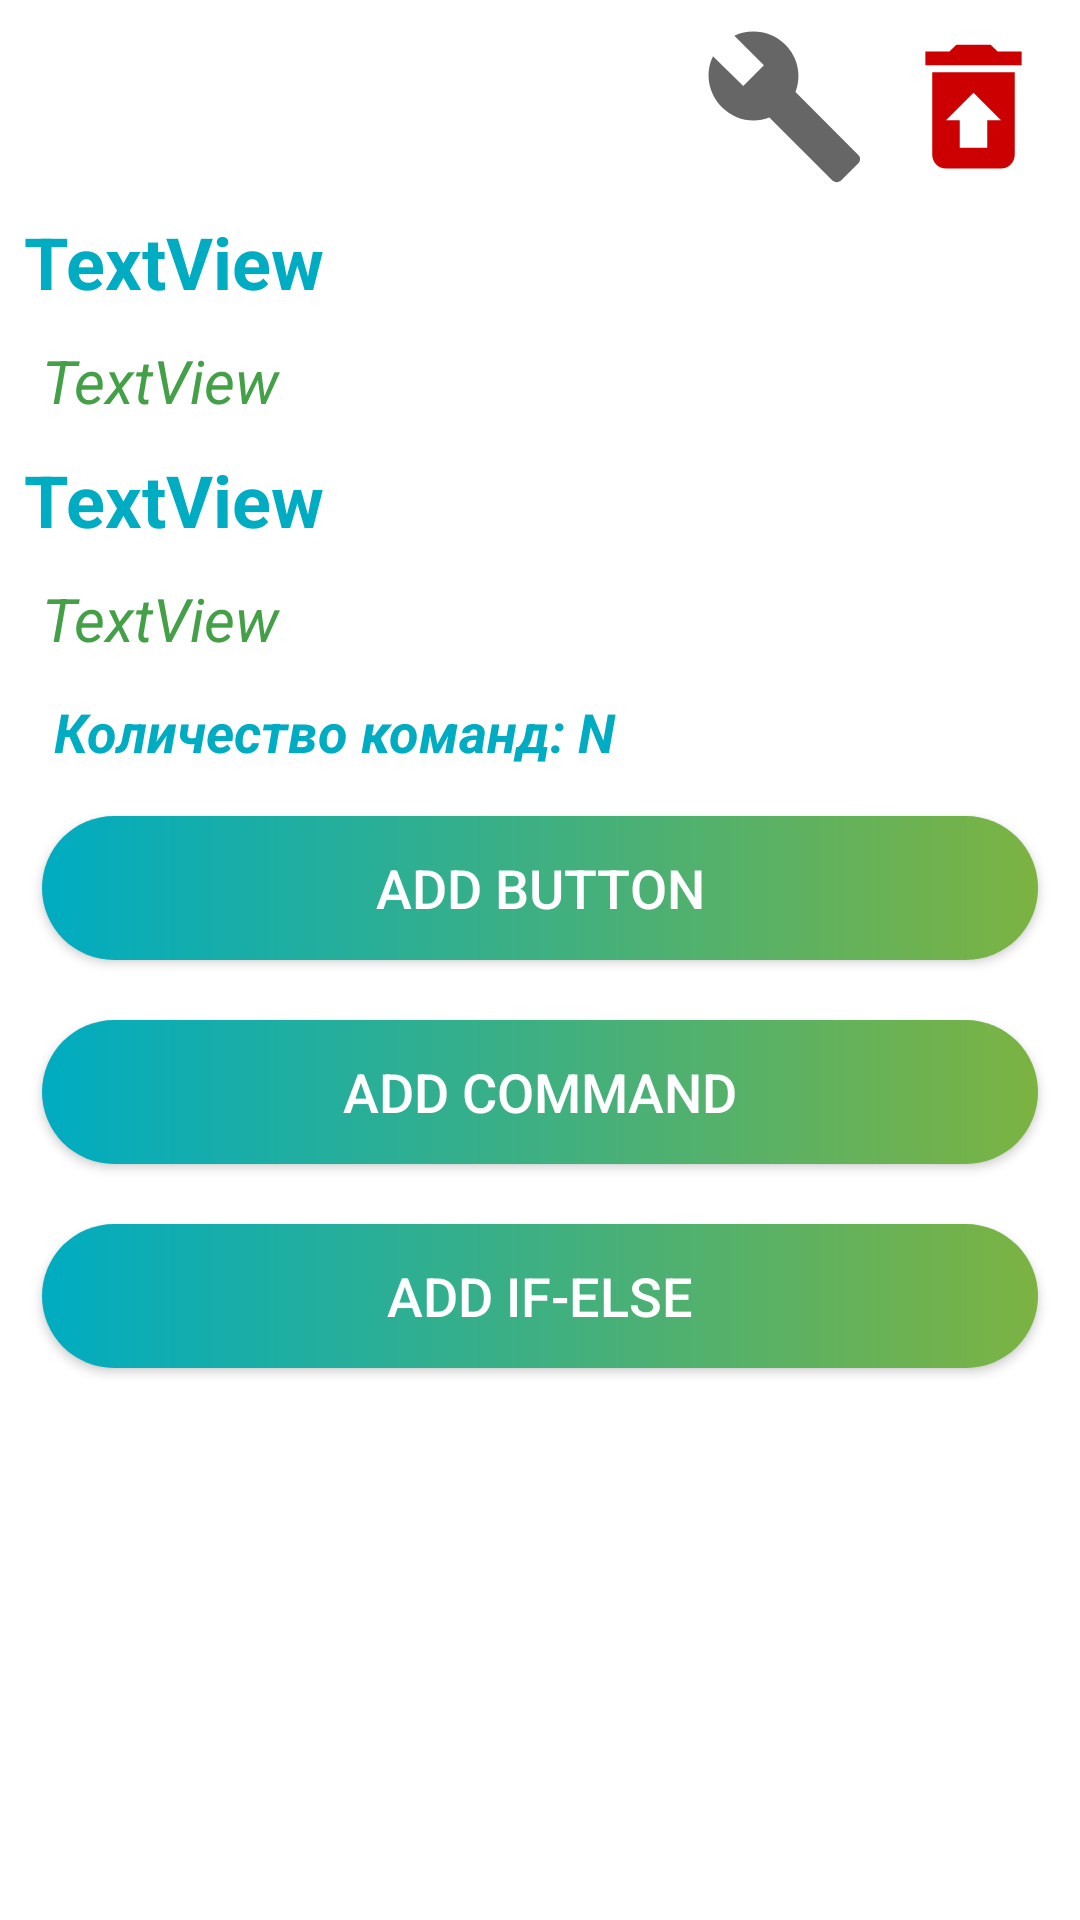

Screen size 1080w x 1920h. Icon name, then its box in pixels as (x1, y1, x2, y2):
build: (708, 31, 860, 183)
restore from trash: (925, 44, 1022, 169)
